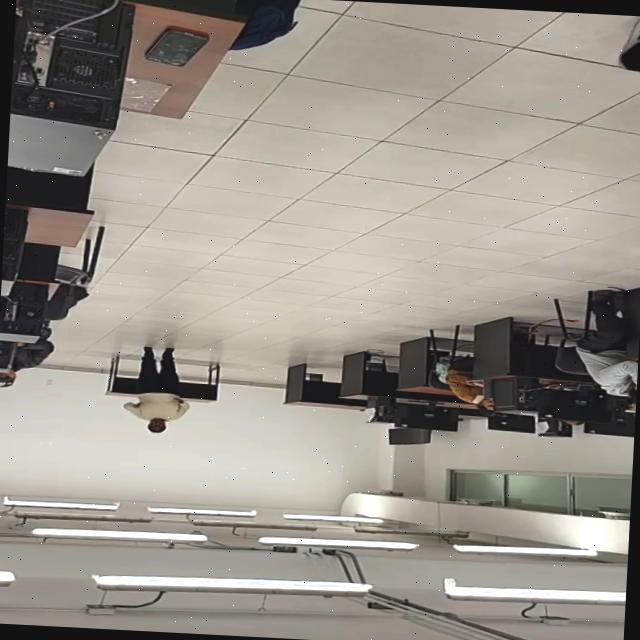Persona: (119, 342, 198, 439)
